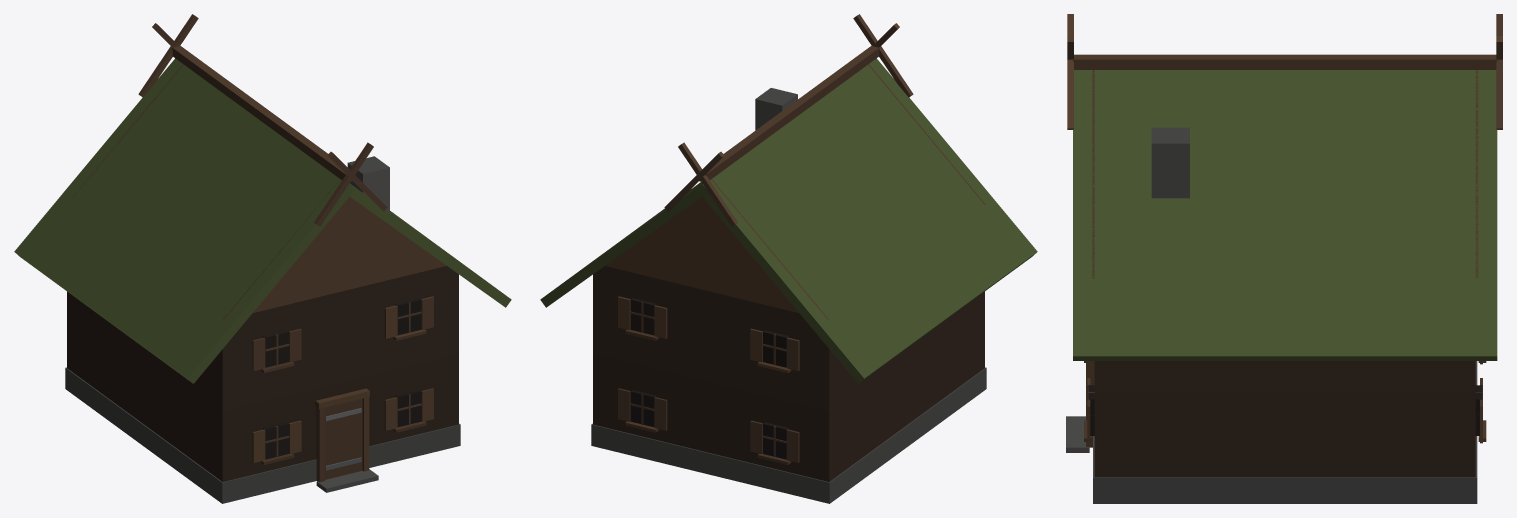
The model's file is walk_rime_tall.glb.
The picture shows the model from 3 angles, left to right: view 1: azimuth 30°, elevation 25°; view 2: azimuth 150°, elevation 25°; view 3: azimuth 270°, elevation 25°; orthographic projection. The views are drawn at different scales.
Visible parts, largest first — view 1: walk_rime_tall_roof, walk_rime_tall; view 2: walk_rime_tall_roof, walk_rime_tall; view 3: walk_rime_tall_roof, walk_rime_tall.
Part boxes in pixels (<box>): walk_rime_tall_roof: <box>14,14,511,383</box>; walk_rime_tall: <box>65,266,460,503</box>; walk_rime_tall_roof: <box>540,14,1037,383</box>; walk_rime_tall: <box>591,266,986,503</box>; walk_rime_tall_roof: <box>1067,14,1502,360</box>; walk_rime_tall: <box>1066,361,1486,503</box>.
Size of what is drawn, in the model's own units: 9.6 by 9.55 by 9.17.
Materials: 2 (2 with a texture image).
